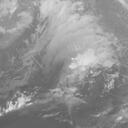cyclone: (42, 31, 105, 86)
